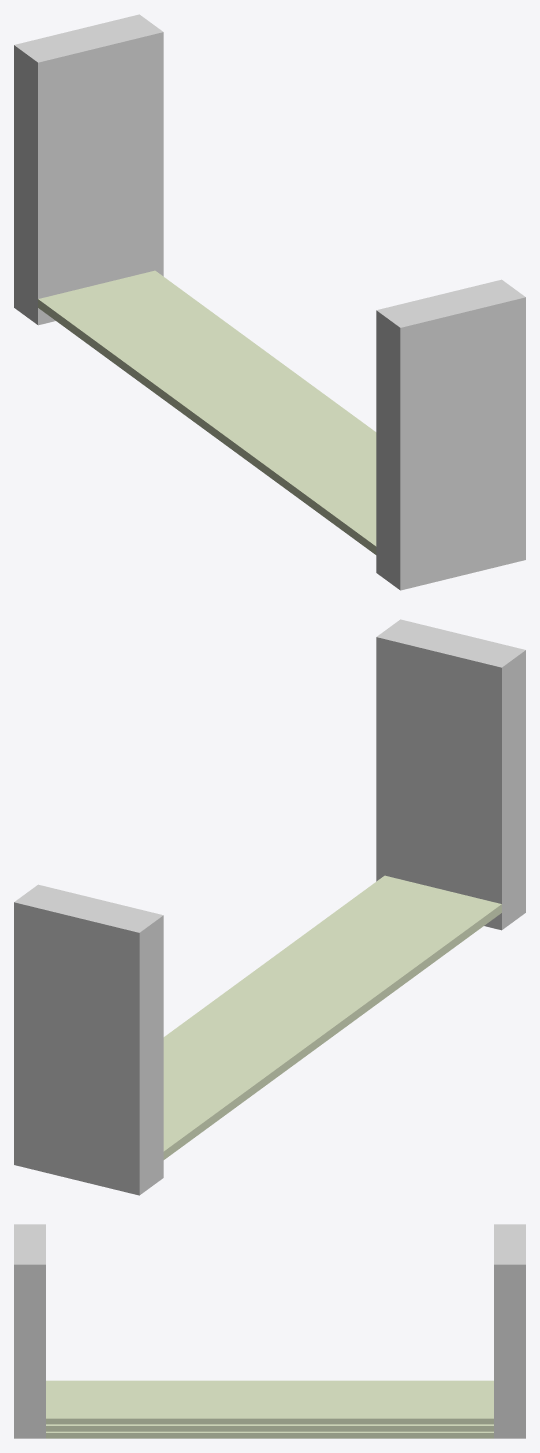
The model's file is B7_Enter1.glb.
3 renders of one model, top to bottom at view 1: azimuth 30°, elevation 25°; view 2: azimuth 150°, elevation 25°; view 3: azimuth 270°, elevation 25°, orthographic. The views are drawn at different scales.
Visible parts, largest first — view 1: B7_Enter1; view 2: B7_Enter1; view 3: B7_Enter1.
Boxes of the visible parts, left/top/right/bottom form: B7_Enter1: left=14, top=14, right=525, bottom=590; B7_Enter1: left=14, top=619, right=525, bottom=1195; B7_Enter1: left=14, top=1224, right=525, bottom=1438.
Size of the model in its own units: 15 by 30 by 80.
